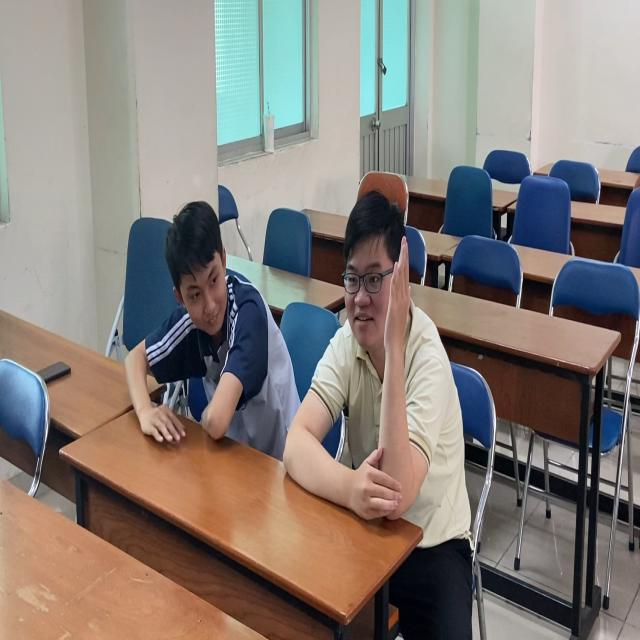raise_hand: (266, 180, 473, 559)
